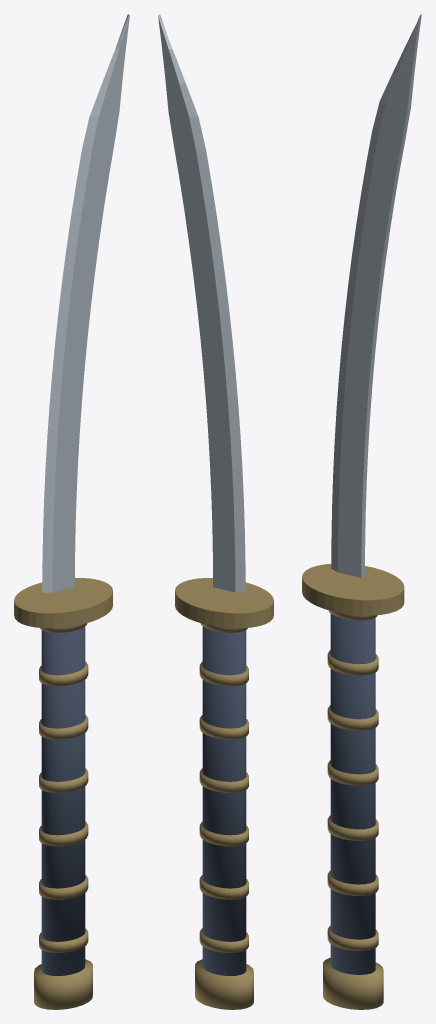
File: wakizashi.fbx
3 renders of one model, left to right at view 1: azimuth 30°, elevation 25°; view 2: azimuth 150°, elevation 25°; view 3: azimuth 330°, elevation 25°, orthographic. The views are drawn at different scales.
Parts seen in each view (by area): view 1: WakizashiBlade, WakizashiHandle, WakizashiGuard, WakizashiPommel, WakizashiWrap01, WakizashiWrap04, WakizashiWrap02, WakizashiWrap00, WakizashiWrap05, WakizashiWrap03; view 2: WakizashiBlade, WakizashiHandle, WakizashiGuard, WakizashiPommel, WakizashiWrap01, WakizashiWrap04, WakizashiWrap02, WakizashiWrap00, WakizashiWrap05, WakizashiWrap03; view 3: WakizashiBlade, WakizashiHandle, WakizashiGuard, WakizashiPommel, WakizashiWrap02, WakizashiWrap01, WakizashiWrap03, WakizashiWrap05, WakizashiWrap04, WakizashiWrap00.
Part boxes in pixels (box(x1,y1,x2,y2)): WakizashiBlade: box(42, 14, 129, 593); WakizashiHandle: box(41, 626, 85, 975); WakizashiGuard: box(14, 578, 112, 628); WakizashiPommel: box(34, 959, 92, 1009); WakizashiWrap01: box(39, 875, 88, 899); WakizashiWrap04: box(39, 715, 88, 739); WakizashiWrap02: box(39, 821, 88, 846); WakizashiWrap00: box(39, 928, 88, 952); WakizashiWrap05: box(39, 661, 88, 686); WakizashiWrap03: box(39, 768, 88, 792); WakizashiBlade: box(158, 14, 245, 593); WakizashiHandle: box(202, 626, 246, 975); WakizashiGuard: box(175, 578, 273, 628); WakizashiPommel: box(195, 959, 253, 1009); WakizashiWrap01: box(199, 875, 248, 899); WakizashiWrap04: box(199, 715, 248, 739); WakizashiWrap02: box(199, 821, 248, 846); WakizashiWrap00: box(199, 928, 248, 952); WakizashiWrap05: box(199, 661, 248, 686); WakizashiWrap03: box(199, 768, 248, 792); WakizashiBlade: box(331, 14, 421, 577); WakizashiHandle: box(330, 613, 375, 974); WakizashiGuard: box(302, 564, 404, 615); WakizashiPommel: box(323, 957, 383, 1009); WakizashiWrap02: box(327, 815, 378, 840); WakizashiWrap01: box(327, 870, 378, 895); WakizashiWrap03: box(327, 760, 378, 785); WakizashiWrap05: box(327, 650, 378, 675); WakizashiWrap04: box(327, 705, 378, 730); WakizashiWrap00: box(327, 925, 378, 950).
Bounding box in the file's own units: 0.0935 × 0.7785 × 0.0554.
